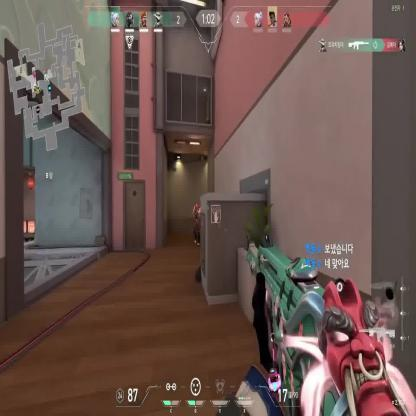enemy: (192, 202, 201, 248)
enemy_head: (194, 202, 198, 211)
